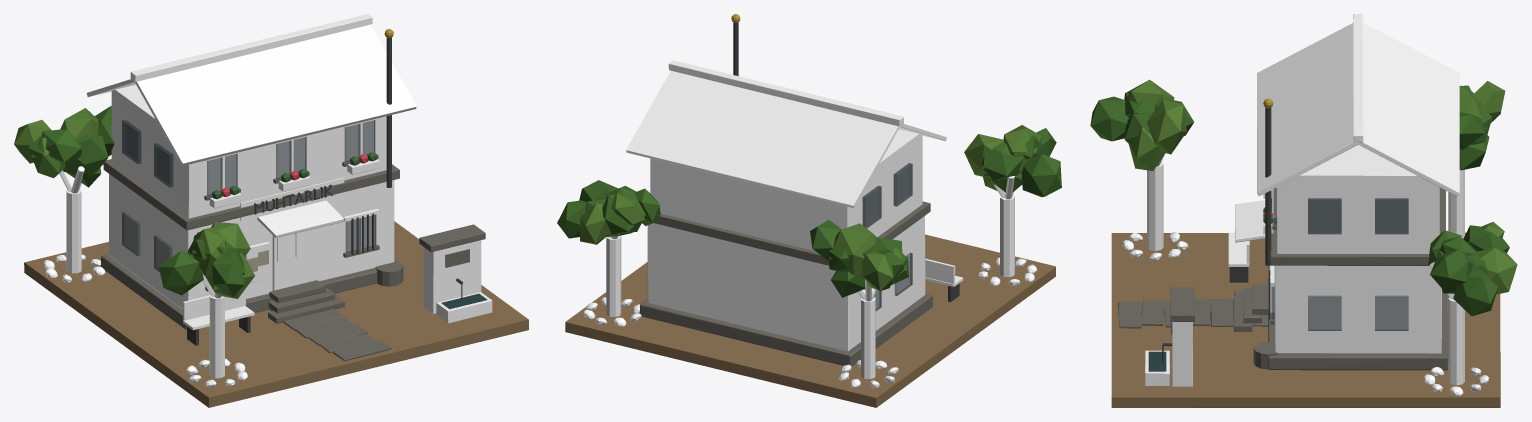
Rendered from muhtar.glb.
The picture shows the model from 3 angles, left to right: view 1: azimuth 30°, elevation 25°; view 2: azimuth 150°, elevation 25°; view 3: azimuth 270°, elevation 25°; orthographic projection. The views are drawn at different scales.
Visible parts, largest first — view 1: AgacTas; view 2: AgacTas; view 3: AgacTas.
Part boxes in pixels (x1,y1,x2,y2): AgacTas: [14, 14, 528, 407]; AgacTas: [557, 14, 1061, 407]; AgacTas: [1090, 14, 1517, 407].
Bounding box in the file's own units: 1 × 0.6974 × 0.9797.
